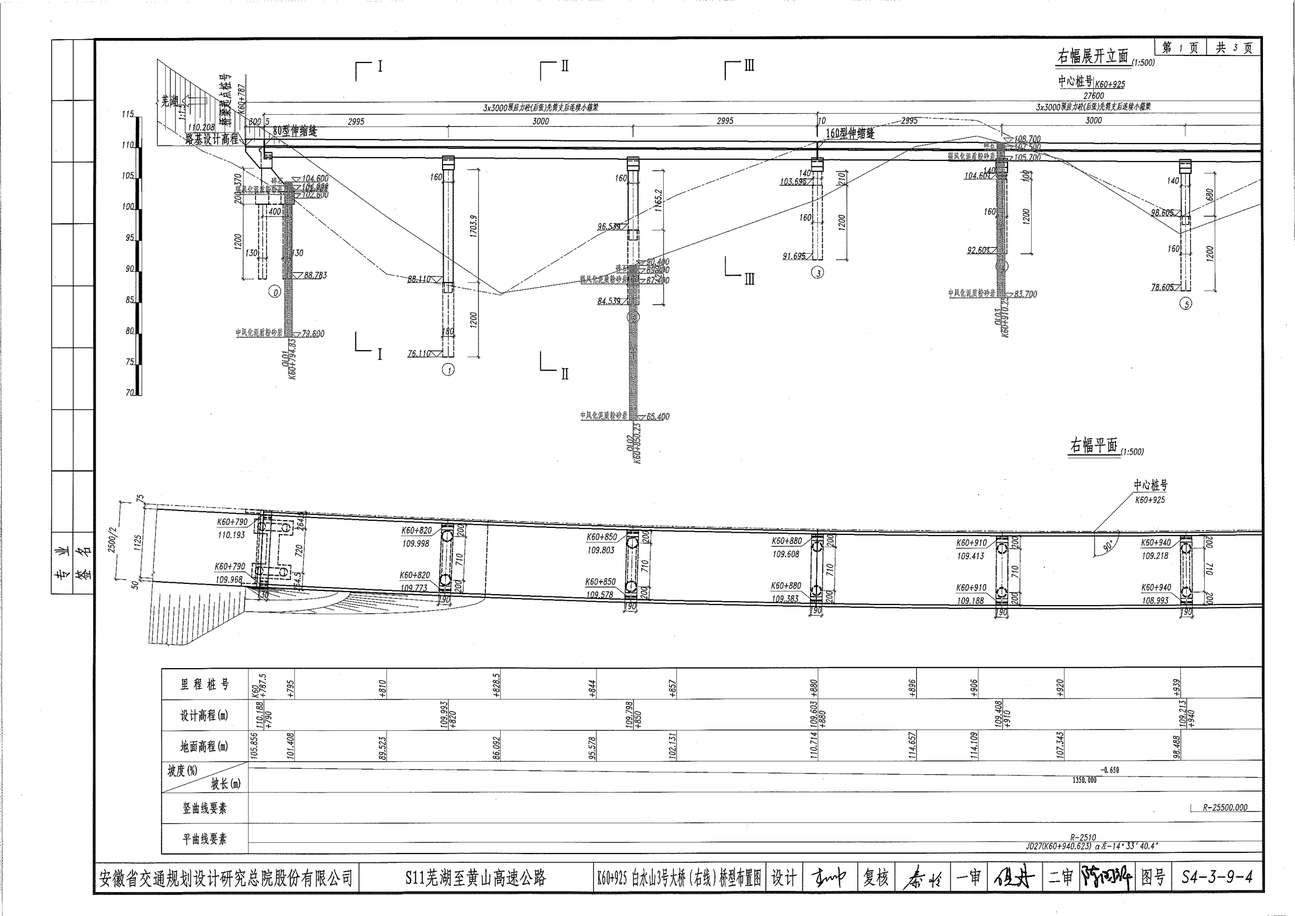A: (107, 42, 1266, 384)
